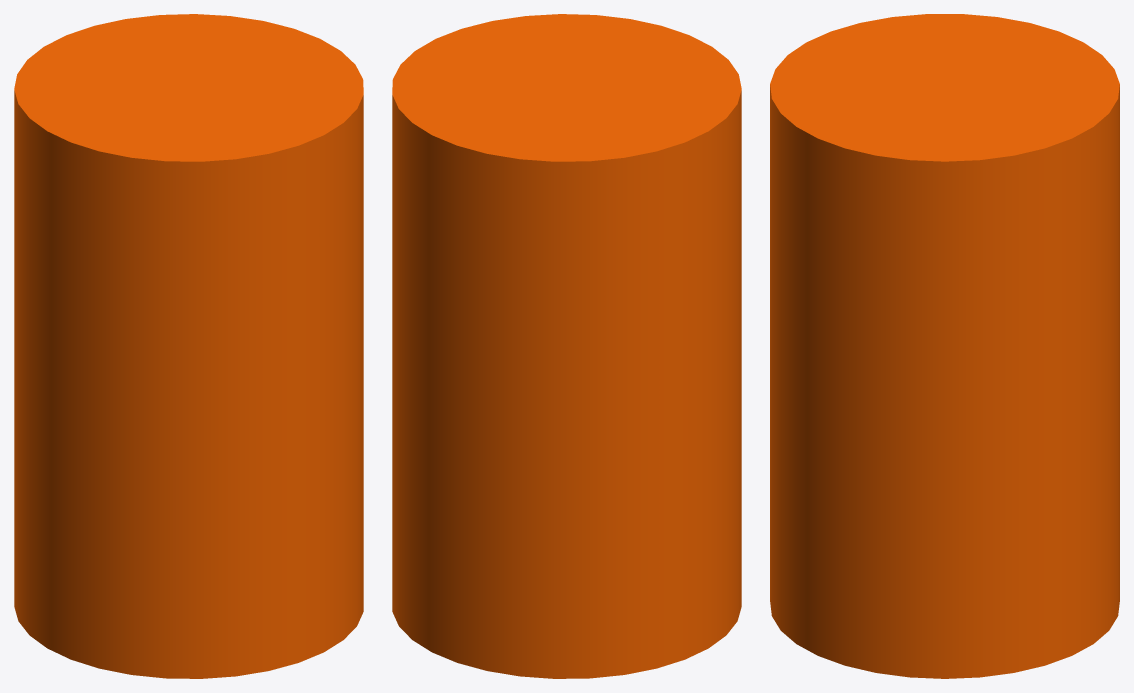
3 renders of one model, left to right at view 1: azimuth 30°, elevation 25°; view 2: azimuth 150°, elevation 25°; view 3: azimuth 270°, elevation 25°, orthographic.
Parts seen in each view (by area): view 1: body; view 2: body; view 3: body.
Part boxes in pixels (x1,y1,x2,y2): body: [14, 14, 363, 678]; body: [392, 14, 741, 678]; body: [770, 14, 1119, 678].
Bounding box in the file's own units: 0.0184 × 0.03 × 0.0184.
